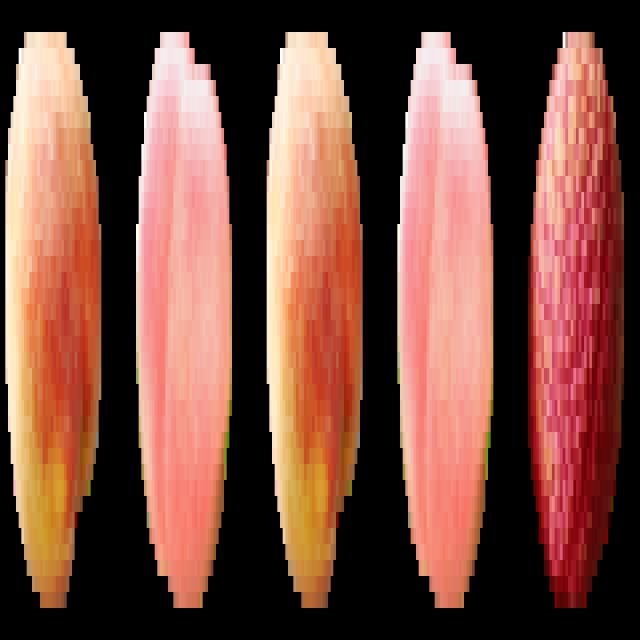lychee: (525, 13, 626, 617)
peach: (4, 22, 105, 620), (395, 25, 495, 616), (265, 16, 362, 622), (136, 26, 233, 614)
